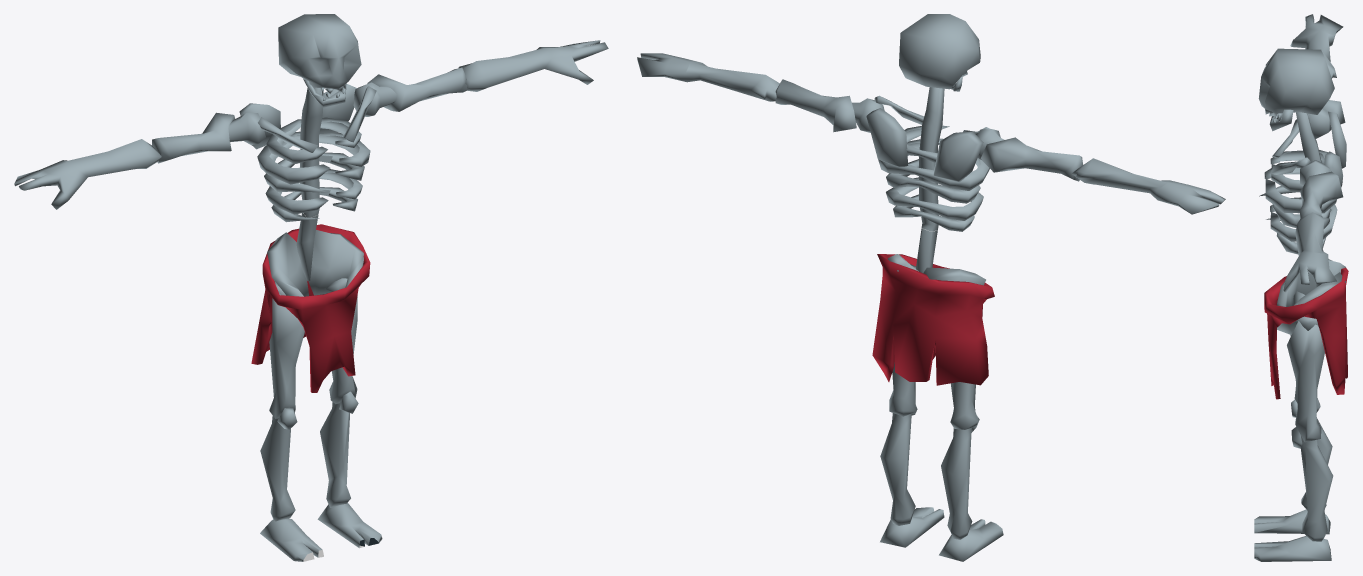
The model's file is SkeletonFracture.fbx.
The picture shows the model from 3 angles, left to right: view 1: azimuth 30°, elevation 25°; view 2: azimuth 150°, elevation 25°; view 3: azimuth 270°, elevation 25°; orthographic projection. The views are drawn at different scales.
Visible parts, largest first — view 1: Skeleton_01.003_cell.038, Skeleton_01.003_cell.006, Skeleton_01.003_cell.005, Skeleton_01.003_cell.009, Skeleton_01.003_cell.037, Skeleton_01.003_cell.027, Skeleton_01.003_cell.033, Skeleton_01.003_cell.036, Skeleton_01.003_cell, Skeleton_01.003_cell.004, Skeleton_01.003_cell.008, Skeleton_01.003_cell.032 (+12 smaller); view 2: Skeleton_01.003_cell.038, Skeleton_01.003_cell.006, Skeleton_01.003_cell.005, Skeleton_01.003_cell.009, Skeleton_01.003_cell.027, Skeleton_01.003_cell.036, Skeleton_01.003_cell.004, Skeleton_01.003_cell.008, Skeleton_01.003_cell.016, Skeleton_01.003_cell.015, Skeleton_01.003_cell.011, Skeleton_01.003_cell.035 (+7 smaller); view 3: Skeleton_01.003_cell.038, Skeleton_01.003_cell.006, Skeleton_01.003_cell.031, Skeleton_01.003_cell.027, Skeleton_01.003_cell.009, Skeleton_01.003_cell.001, Skeleton_01.003_cell.005, Skeleton_01.003_cell.008, Skeleton_01.003_cell.035, Skeleton_01.003_cell, Skeleton_01.003_cell.032, Skeleton_01.003_cell.025 (+15 smaller).
Boxes of the visible parts, <box> form: Skeleton_01.003_cell.038: <box>251,224,370,392</box>; Skeleton_01.003_cell.006: <box>278,14,361,89</box>; Skeleton_01.003_cell.005: <box>14,139,161,209</box>; Skeleton_01.003_cell.009: <box>458,40,608,91</box>; Skeleton_01.003_cell.037: <box>269,293,304,418</box>; Skeleton_01.003_cell.027: <box>320,391,358,507</box>; Skeleton_01.003_cell.033: <box>308,230,363,295</box>; Skeleton_01.003_cell.036: <box>260,407,295,521</box>; Skeleton_01.003_cell: <box>257,131,370,184</box>; Skeleton_01.003_cell.004: <box>152,112,234,163</box>; Skeleton_01.003_cell.008: <box>367,67,469,111</box>; Skeleton_01.003_cell.032: <box>267,232,308,296</box>; Skeleton_01.003_cell.038: <box>872,254,994,385</box>; Skeleton_01.003_cell.006: <box>899,14,980,89</box>; Skeleton_01.003_cell.005: <box>1071,158,1225,214</box>; Skeleton_01.003_cell.009: <box>637,53,779,101</box>; Skeleton_01.003_cell.027: <box>880,405,917,525</box>; Skeleton_01.003_cell.036: <box>941,428,972,539</box>; Skeleton_01.003_cell.004: <box>980,137,1083,181</box>; Skeleton_01.003_cell.008: <box>775,79,856,132</box>; Skeleton_01.003_cell.016: <box>919,87,944,231</box>; Skeleton_01.003_cell.015: <box>933,131,983,182</box>; Skeleton_01.003_cell.011: <box>866,108,908,166</box>; Skeleton_01.003_cell.035: <box>939,519,1003,561</box>; Skeleton_01.003_cell.038: <box>1264,267,1348,399</box>; Skeleton_01.003_cell.006: <box>1258,48,1334,114</box>; Skeleton_01.003_cell.031: <box>1287,321,1324,442</box>; Skeleton_01.003_cell.027: <box>1291,427,1333,541</box>; Skeleton_01.003_cell.009: <box>1283,212,1336,292</box>; Skeleton_01.003_cell.001: <box>1254,535,1331,561</box>; Skeleton_01.003_cell.005: <box>1290,14,1343,78</box>; Skeleton_01.003_cell.008: <box>1300,171,1343,218</box>; Skeleton_01.003_cell.035: <box>1254,509,1330,534</box>; Skeleton_01.003_cell: <box>1264,161,1343,213</box>; Skeleton_01.003_cell.032: <box>1276,259,1345,306</box>; Skeleton_01.003_cell.025: <box>1270,150,1327,192</box>.
Size of the model in its own units: 501 by 422 by 74.
